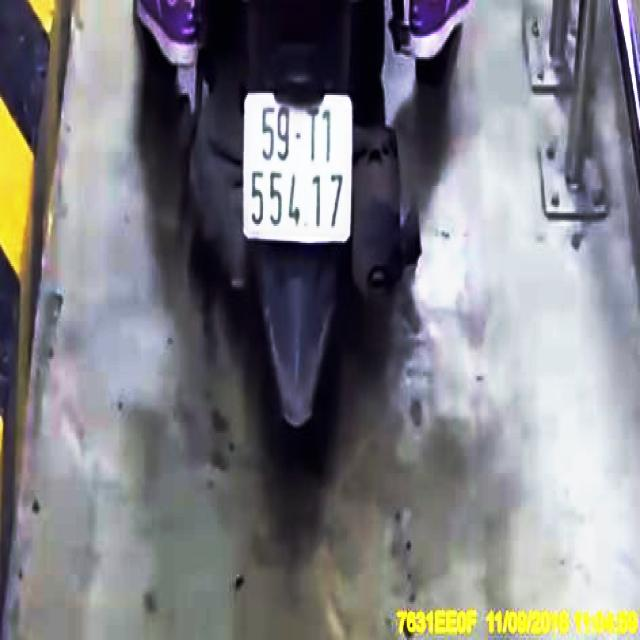license_plate: (246, 95, 352, 244)
